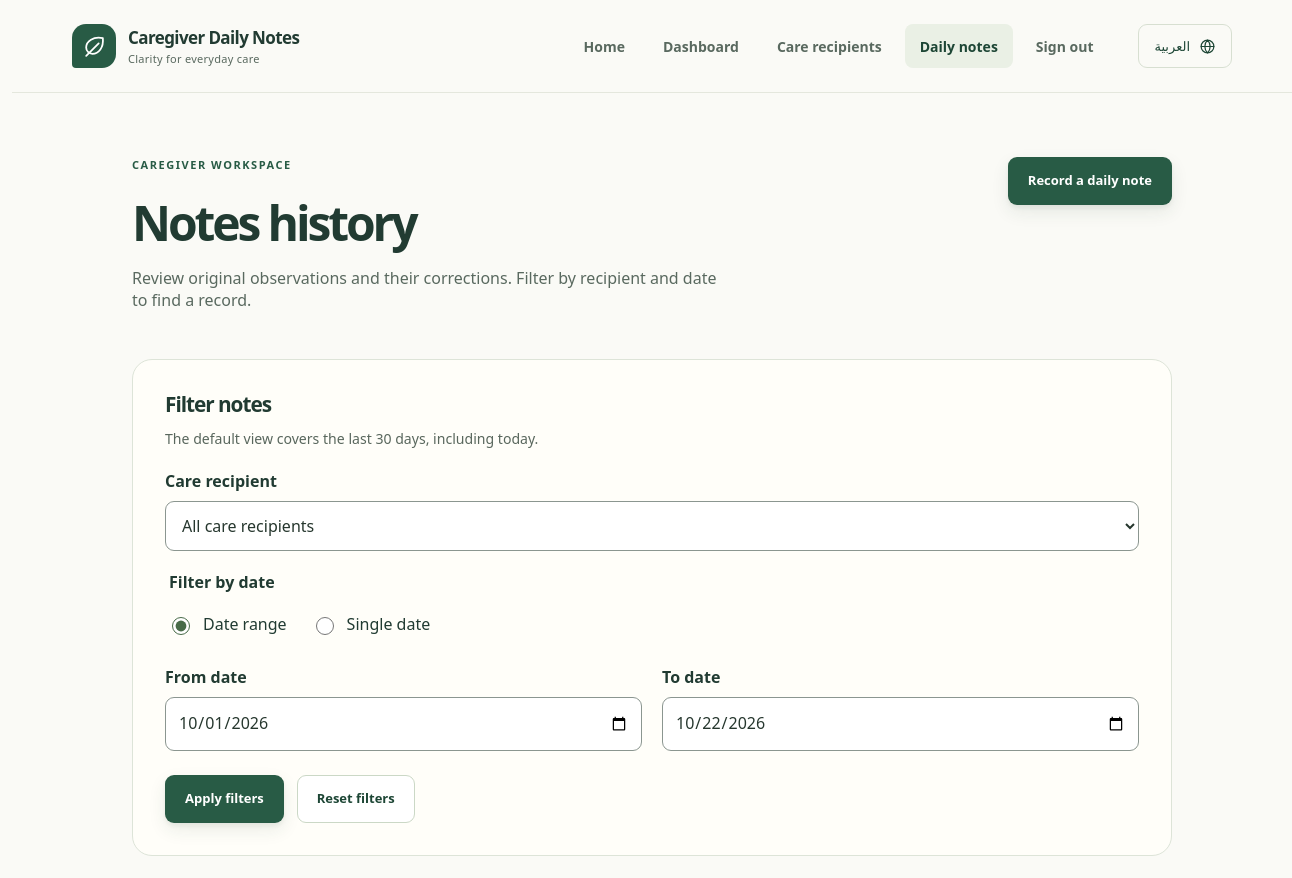
Scenario: history screen, filters and immutable records › applies recipient/date filters together only on submission, including inactive recipients
Select "ليلى Smith (Inactive)" in the dropdown labelled "Care recipient" at point(652, 526), box [165, 501, 1139, 551]
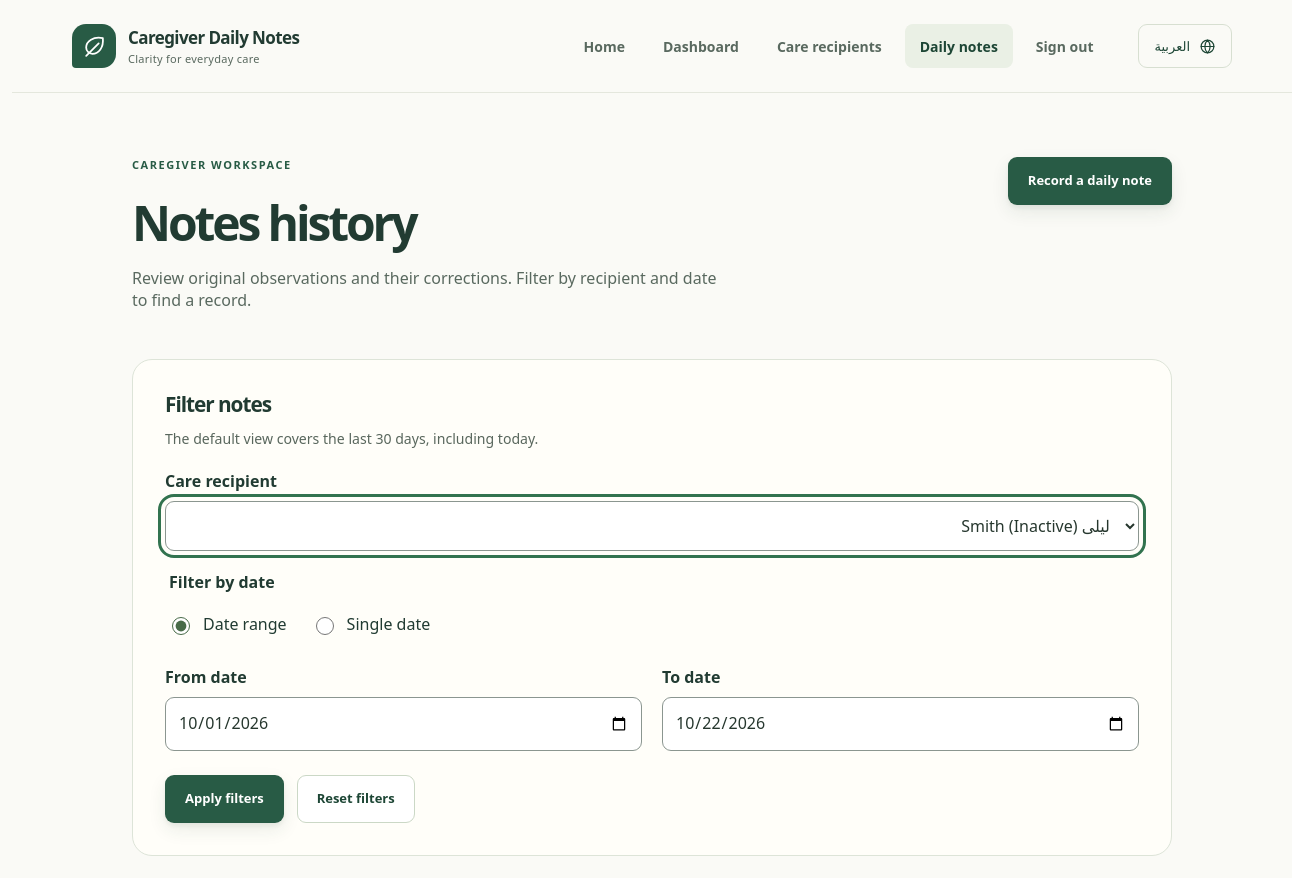
Type "2026-10-10" into the date field labelled "From date" at point(404, 724), box [165, 697, 642, 751]
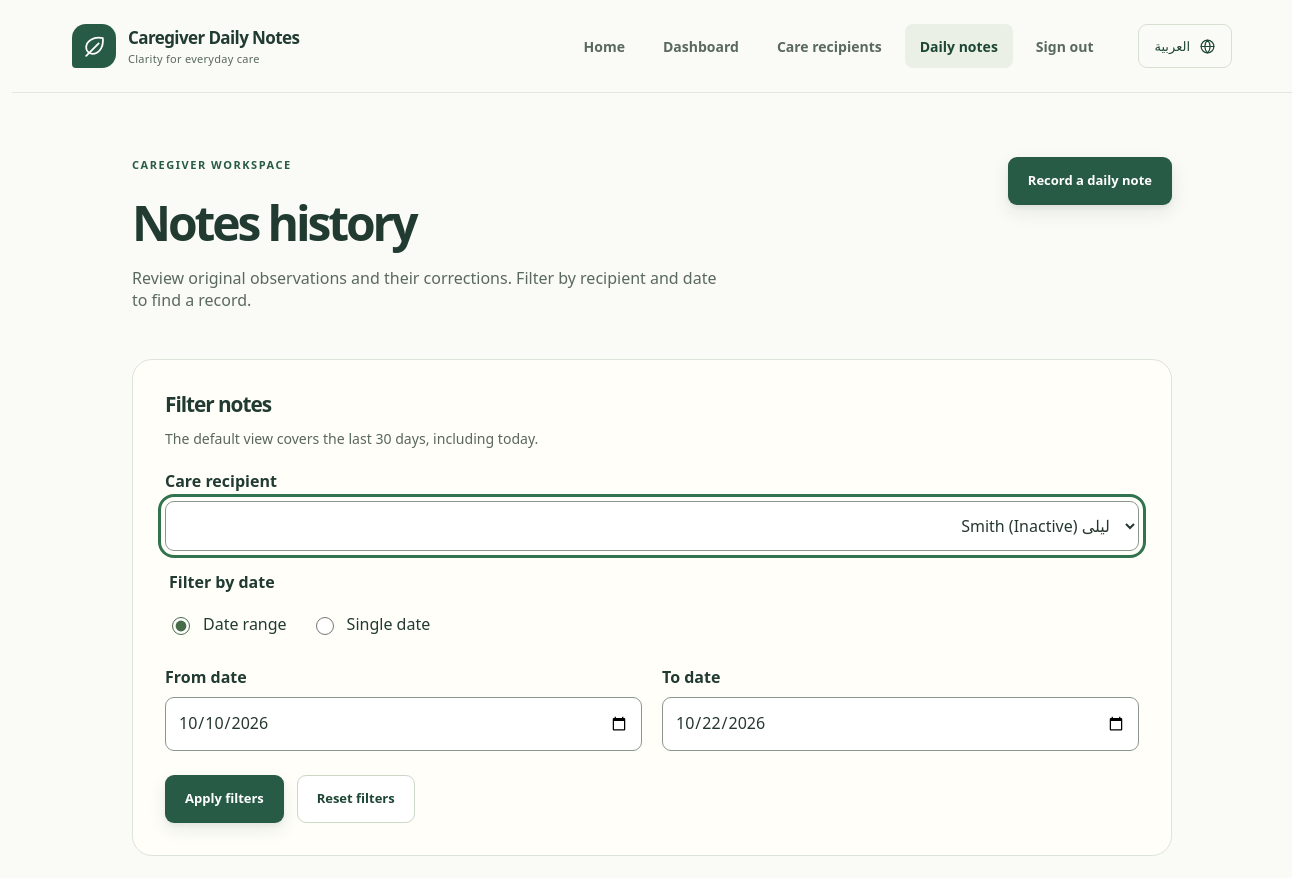
Type "2026-10-20" into the date field labelled "To date" at point(900, 724), box [662, 697, 1139, 751]
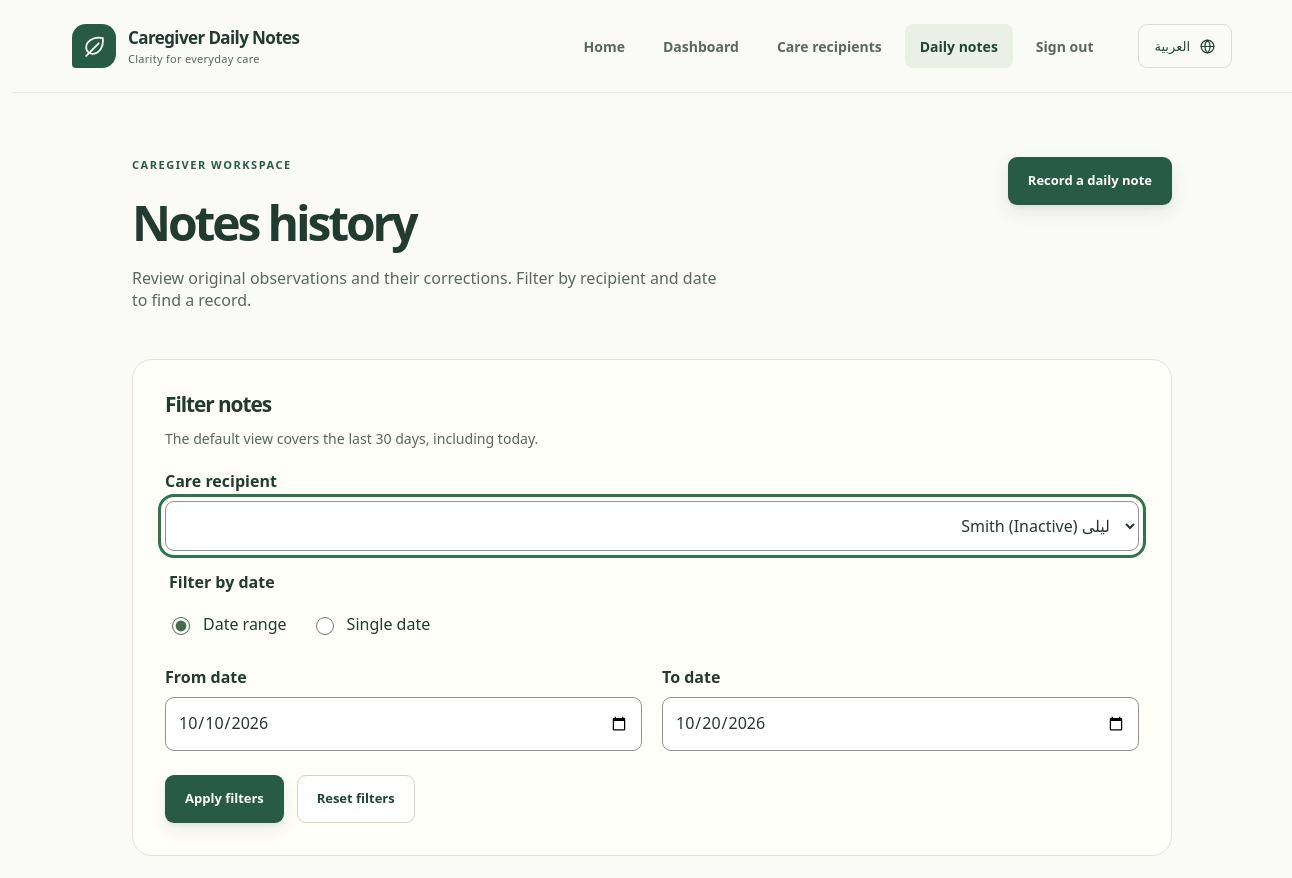
Click the button "Apply filters" at point(224, 799), box [165, 775, 284, 823]
(page scrolled)
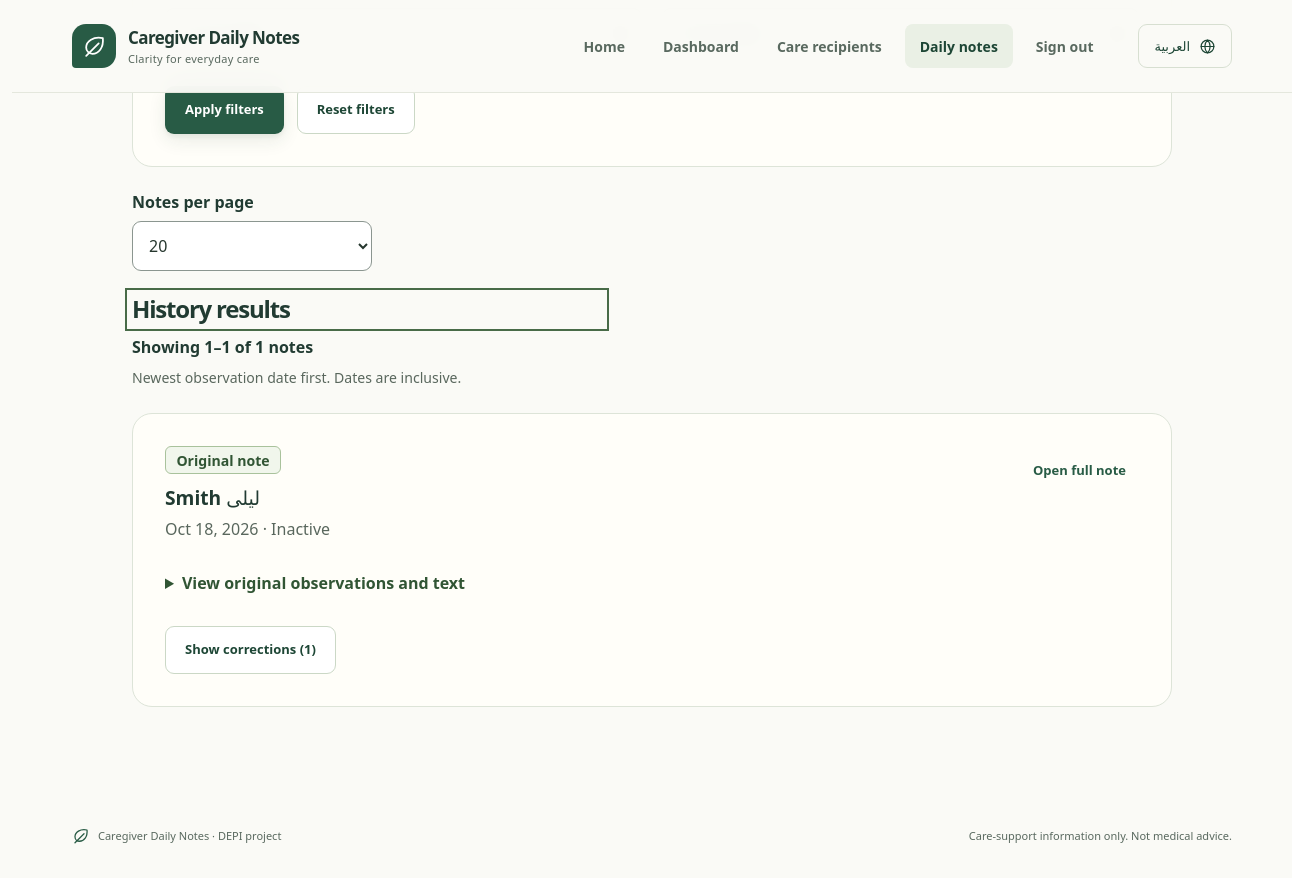
Expected: the element "ليلى Smith" is shown, [132, 414, 1172, 707]
